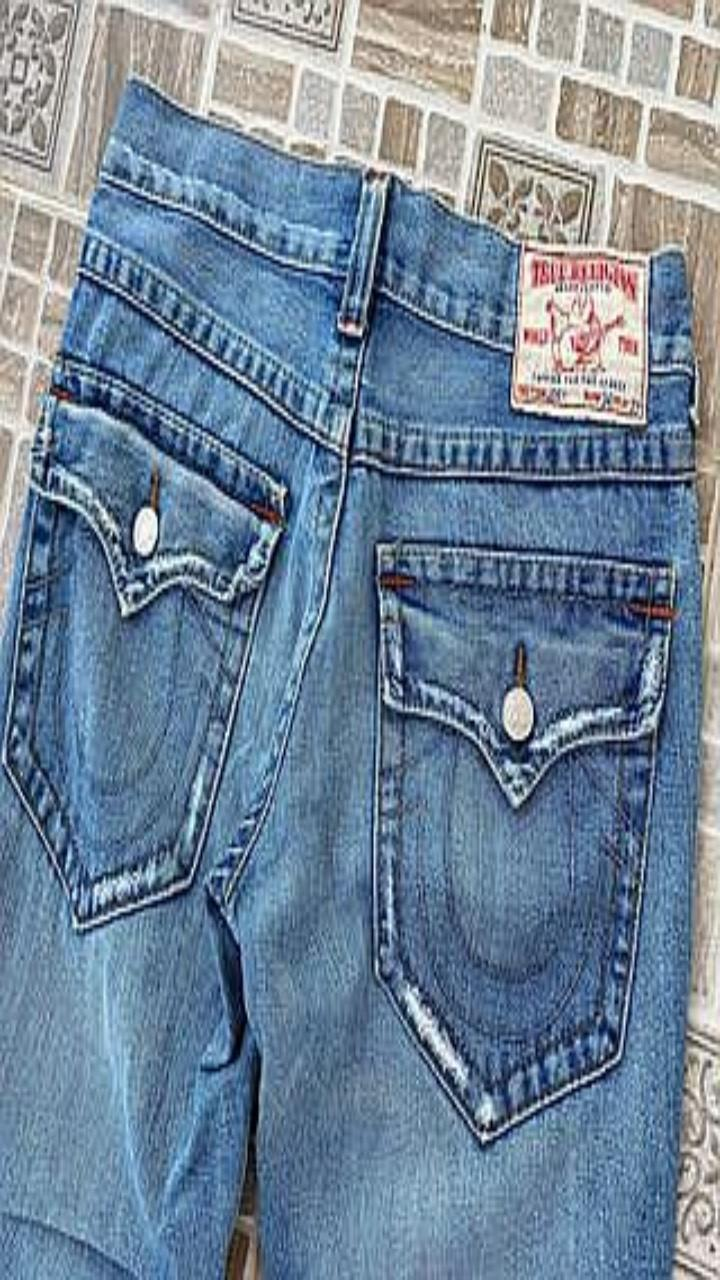Shorts: (0, 77, 700, 1279)
